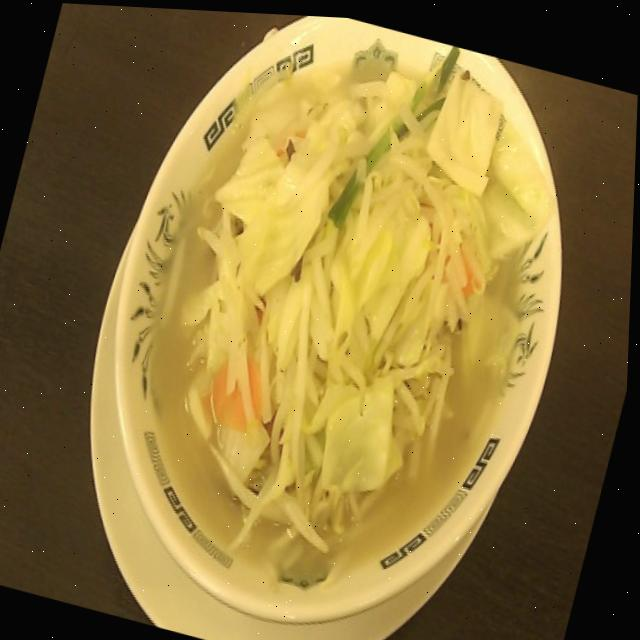面条主食: (34, 2, 629, 640)
